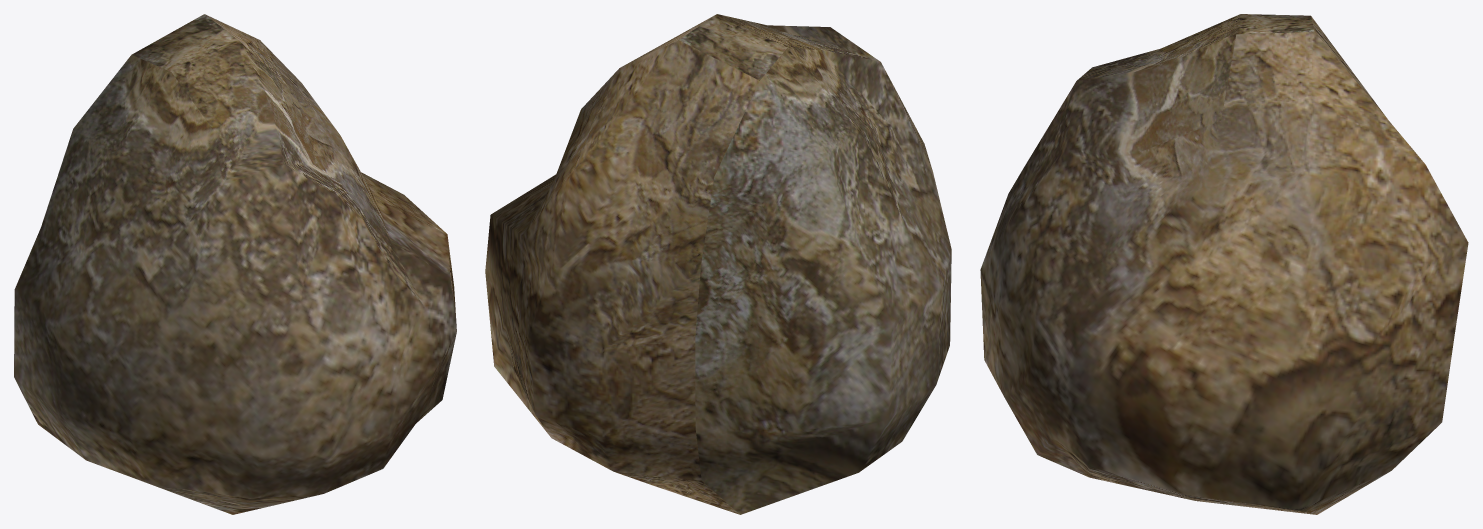
The model's file is StackingRock_02.fbx.
3 views of the same model, side by side, from view 1: azimuth 30°, elevation 25°; view 2: azimuth 150°, elevation 25°; view 3: azimuth 270°, elevation 25° (orthographic). The views are drawn at different scales.
Visible parts, largest first — view 1: pCube1; view 2: pCube1; view 3: pCube1.
Part boxes in pixels (left/top/right/bottom): pCube1: left=14, top=14, right=456, bottom=514; pCube1: left=485, top=14, right=951, bottom=514; pCube1: left=980, top=14, right=1468, bottom=514.
Size of the model in its own units: 5.22 by 5.63 by 5.29.
